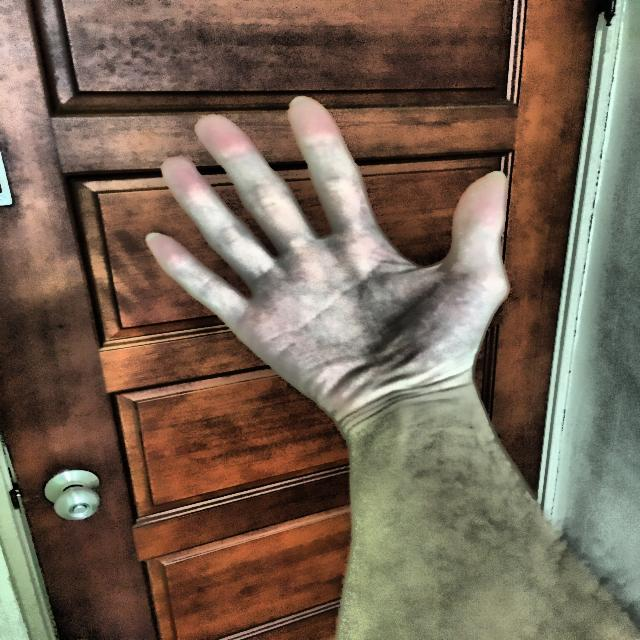not-gloved: (132, 78, 527, 451)
